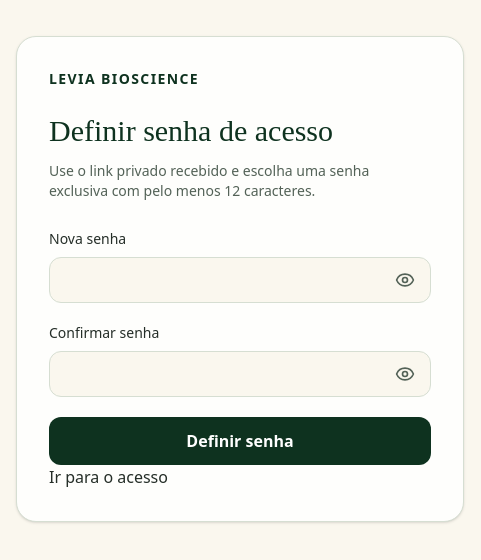
Scenario: mobile password-manager autofill › does not submit mismatched autofilled recovery passwords
The image size is (481, 560).
Type "new-synthetic-password" into the password field labelled "Nova senha".
click(240, 280); type("new-synthetic-password")  # box x1=49 y1=257 x2=431 y2=303
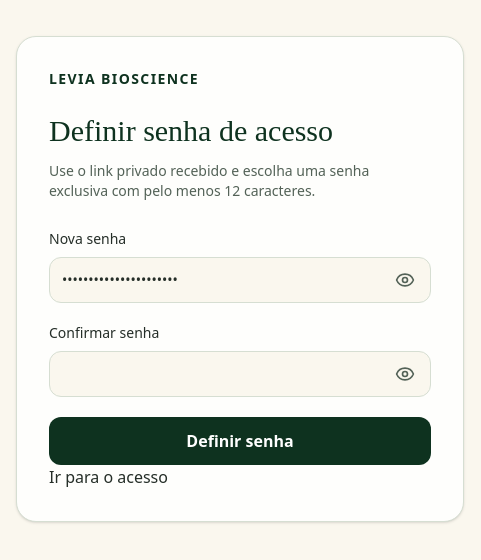
Type "different-synthetic-password" into the password field labelled "Confirmar senha".
click(240, 374); type("different-synthetic-password")  # box x1=49 y1=351 x2=431 y2=397
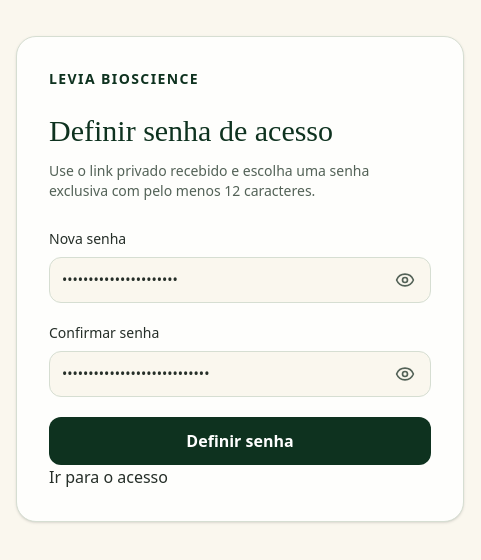
Submit the form, box x1=49 y1=229 x2=431 y2=465
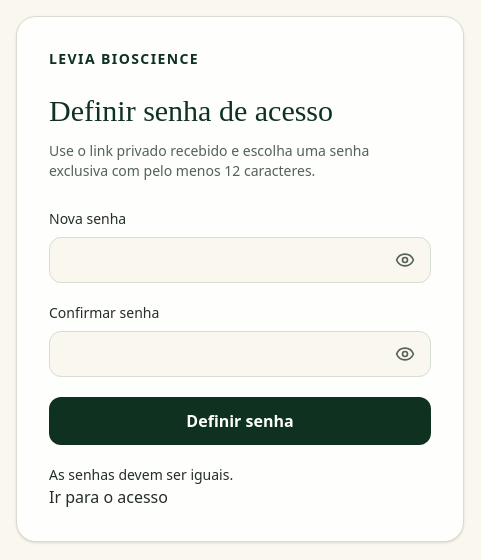
Expected: the message reads "As senhas devem ser iguais.", x1=49 y1=465 x2=233 y2=484
